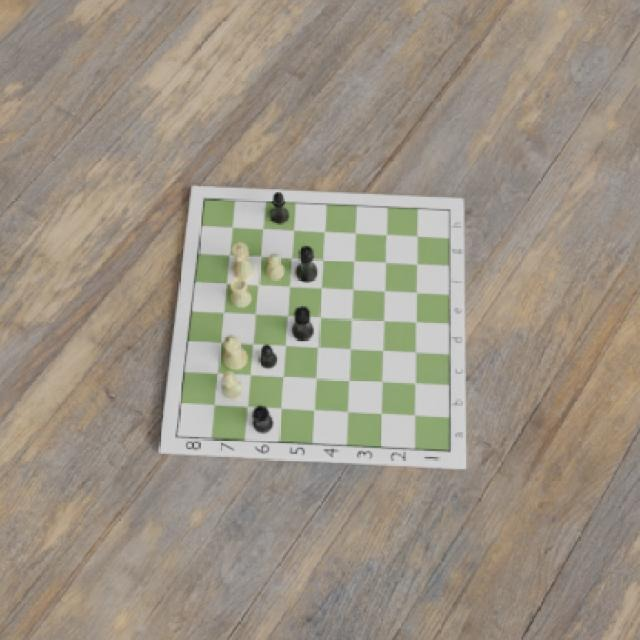black-bishop: (270, 192, 290, 224)
black-king: (294, 244, 318, 284)
black-pawn: (258, 343, 277, 369)
black-queen: (290, 304, 314, 344)
black-rook: (253, 404, 275, 436)
white-bishop: (221, 371, 240, 401)
white-king: (224, 334, 248, 371)
white-pawn: (266, 252, 286, 282)
white-queen: (230, 240, 254, 279)
white-rook: (230, 276, 254, 311)
